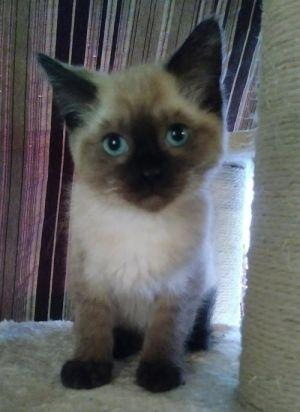siamese: (34, 12, 235, 221)
